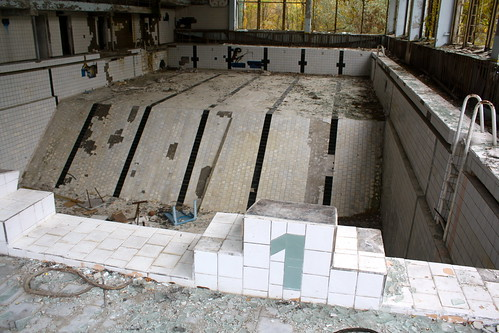pool: (1, 25, 491, 285)
